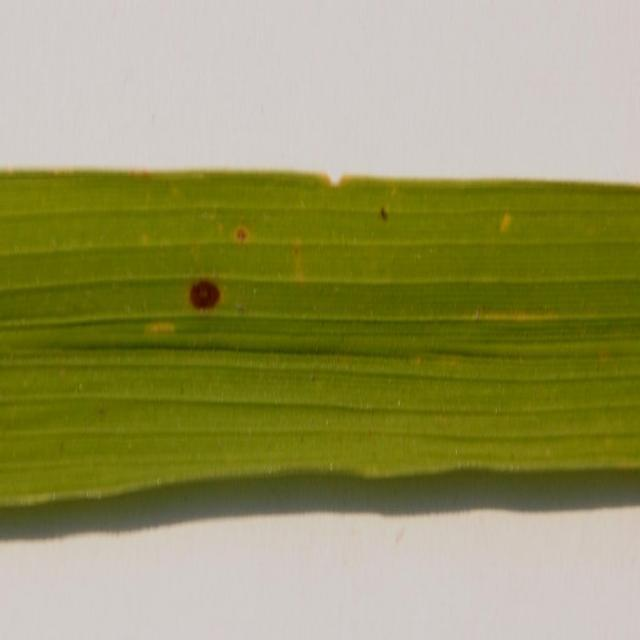Rice_Brownspot: (176, 235, 226, 328)
